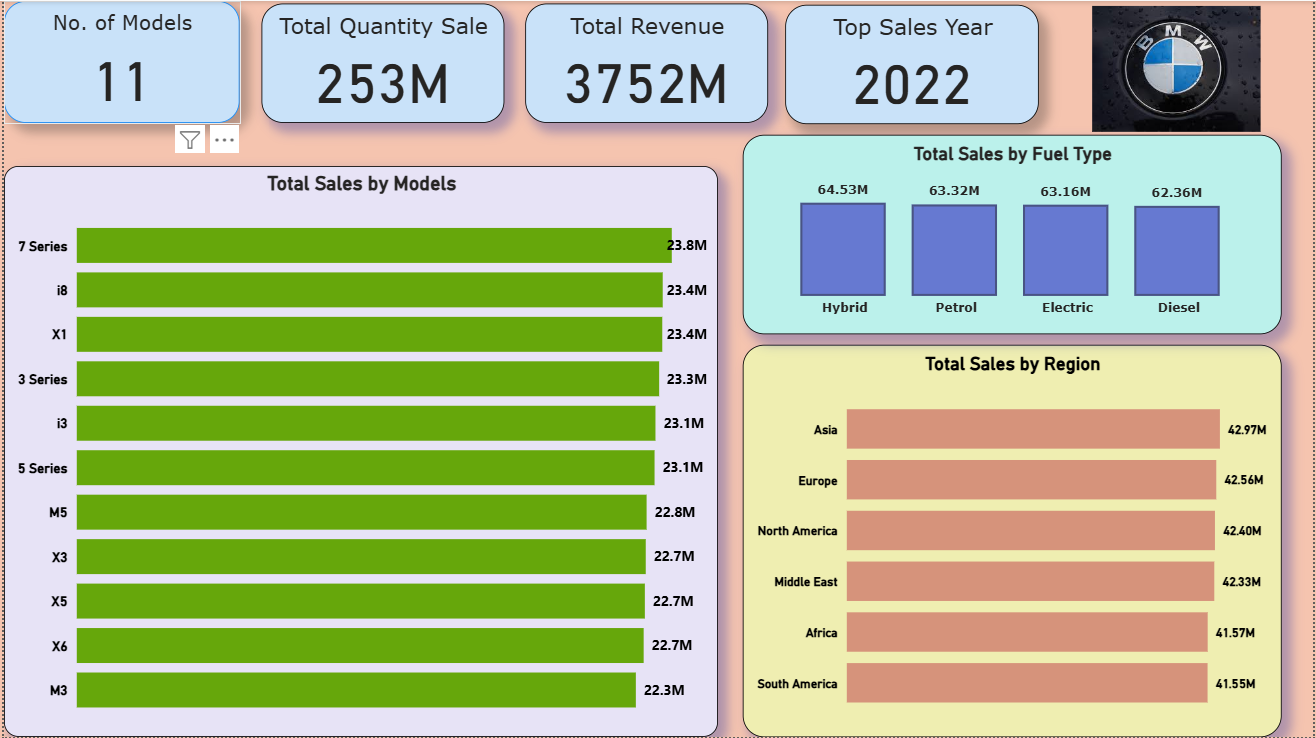

This screenshot's page, from the dashboard's own definition file:
{"tool":"powerbi","page":{"name":"BMW Sales Dashboard","canvas":[1280,720],"ordinal":0},"visuals":[{"type":"card","title":"No. of Models","fields":{"Values":["Count(BMW_sales_data_2010_2014.Model)"]},"box":[0,0,230.5,119.4],"z":0},{"type":"card","title":"Total Quantity Sale","fields":{"Values":["Sum(BMW_sales_data_2010_2014.Sales_Volume)"]},"box":[252.5,2.7,237.4,116.6],"z":1000},{"type":"card","title":"Total Revenue","fields":{"Values":["Sum(BMW_sales_data_2010_2014.Price_USD)"]},"box":[510.5,2.7,237.4,116.6],"z":2000},{"type":"barChart","title":"Total Sales by Models","fields":{"Category":["BMW_sales_data_2010_2014.Model"],"Y":["Sum(BMW_sales_data_2010_2014.Sales_Volume)"]},"box":[0,161.9,698.5,558.5],"z":3000},{"type":"barChart","title":"Total Sales by Region","fields":{"Category":["BMW_sales_data_2010_2014.Region"],"Y":["Sum(BMW_sales_data_2010_2014.Sales_Volume)"]},"box":[723.2,336.2,526.9,384.2],"z":4000},{"type":"card","title":"Top Sales Year","fields":{"Values":["BMW_sales_data_2010_2014.Top Sales Year"]},"box":[764.3,4.1,248.4,116.6],"z":5000},{"type":"clusteredColumnChart","title":"Total Sales by Fuel Type","fields":{"Category":["BMW_sales_data_2010_2014.Fuel_Type"],"Y":["Sum(BMW_sales_data_2010_2014.Sales_Volume)"]},"box":[723.2,130.4,526.9,194.9],"z":6000},{"type":"image","box":[1012,0,268,133],"z":7000}]}

Visuals, with their boxes in screenshot pixels (x1, y1, x2, y2), scaled from the page's 1280x720 canvas onto the 1316x738 screenshot:
"No. of Models" card: l=0, t=0, r=237, b=122
"Total Quantity Sale" card: l=260, t=3, r=504, b=122
"Total Revenue" card: l=525, t=3, r=769, b=122
"Total Sales by Models" barChart: l=0, t=166, r=718, b=737
"Total Sales by Region" barChart: l=744, t=345, r=1285, b=737
"Top Sales Year" card: l=786, t=4, r=1041, b=124
"Total Sales by Fuel Type" clusteredColumnChart: l=744, t=134, r=1285, b=333
image: l=1040, t=0, r=1315, b=136
